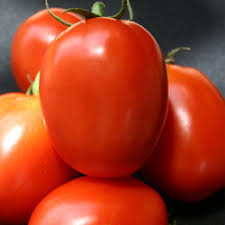tomato: (34, 13, 171, 175)
